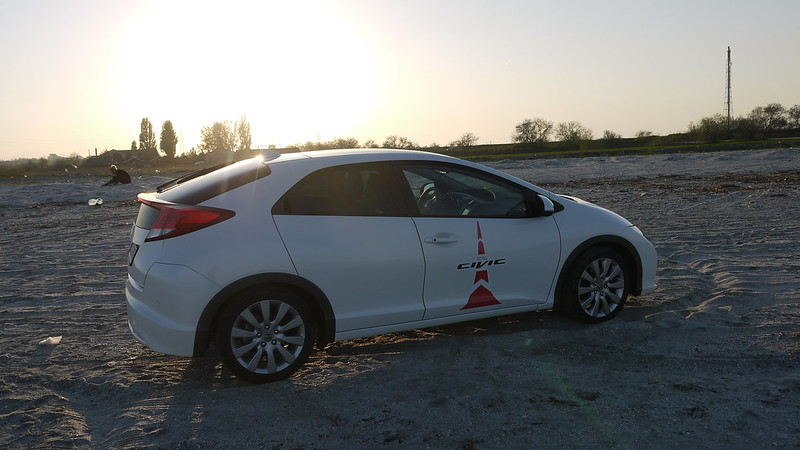car: (118, 144, 670, 382)
